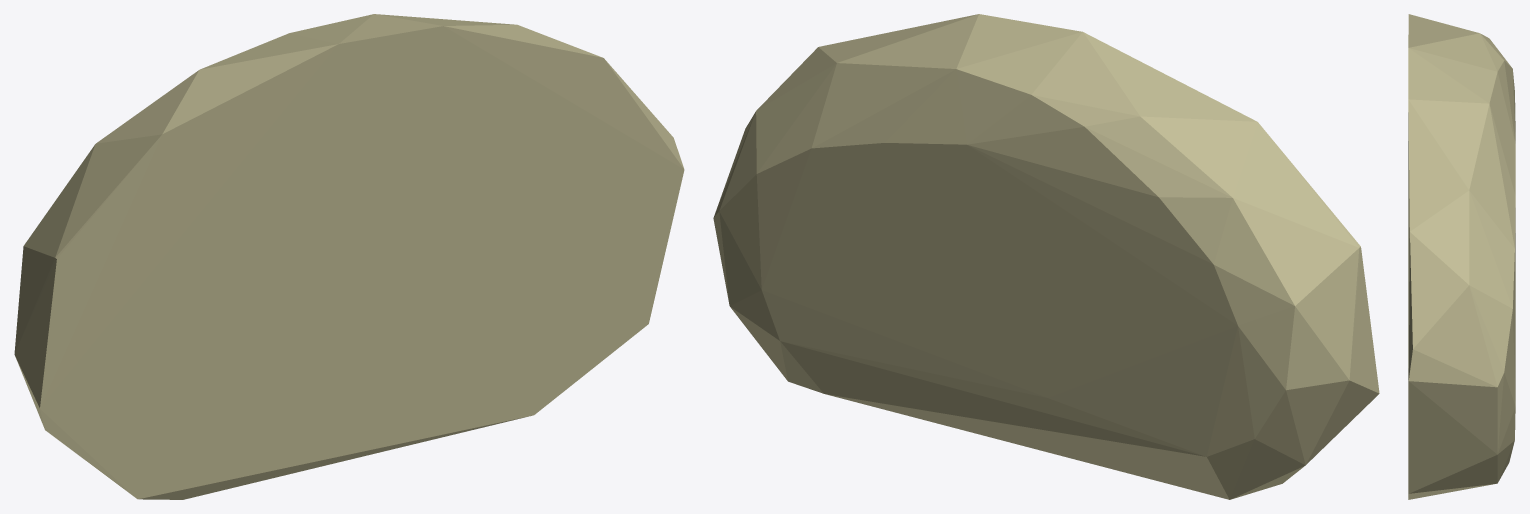
Rendered from container_system_sterilising_c01.glb.
3 views of the same model, side by side, from view 1: azimuth 30°, elevation 25°; view 2: azimuth 150°, elevation 25°; view 3: azimuth 270°, elevation 25° (orthographic). The views are drawn at different scales.
Visible parts, largest first — view 1: geometry_0; view 2: geometry_0; view 3: geometry_0.
Boxes of the visible parts, x1=… form: geometry_0: x1=14, y1=14, x2=684, y2=499; geometry_0: x1=713, y1=14, x2=1379, y2=499; geometry_0: x1=1408, y1=14, x2=1515, y2=499.
Bounding box in the file's own units: 0.4717 × 0.2939 × 0.0773.
